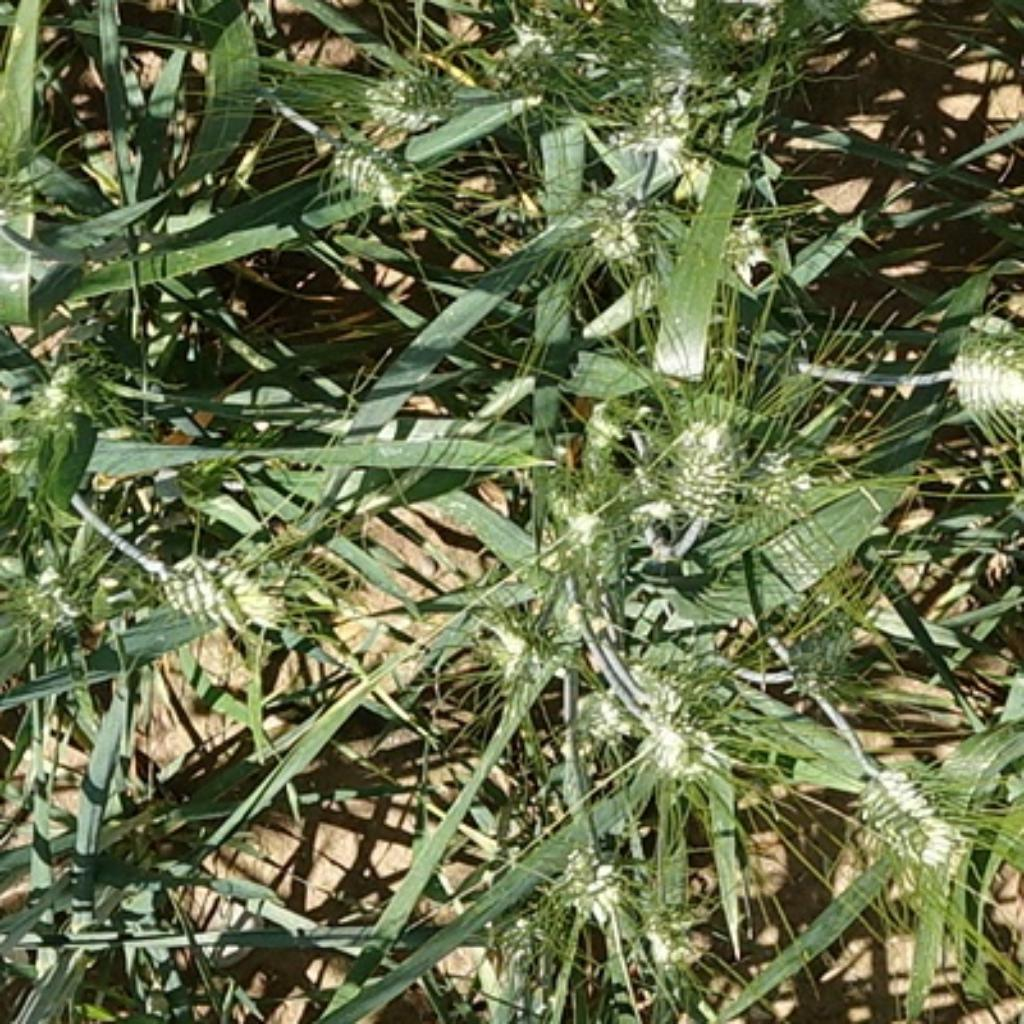0-0: (9, 523, 132, 656), (159, 540, 317, 637), (463, 576, 588, 698), (850, 764, 979, 876), (7, 337, 120, 453), (652, 386, 747, 519), (609, 7, 737, 102), (624, 839, 711, 977), (724, 424, 826, 537), (544, 466, 633, 589), (632, 691, 729, 791), (941, 326, 1024, 438), (774, 606, 864, 704), (606, 84, 701, 174), (568, 174, 655, 266), (323, 137, 423, 217), (494, 0, 586, 84), (491, 903, 576, 988), (547, 826, 627, 916), (563, 670, 650, 747), (366, 61, 465, 128), (709, 207, 773, 273)
